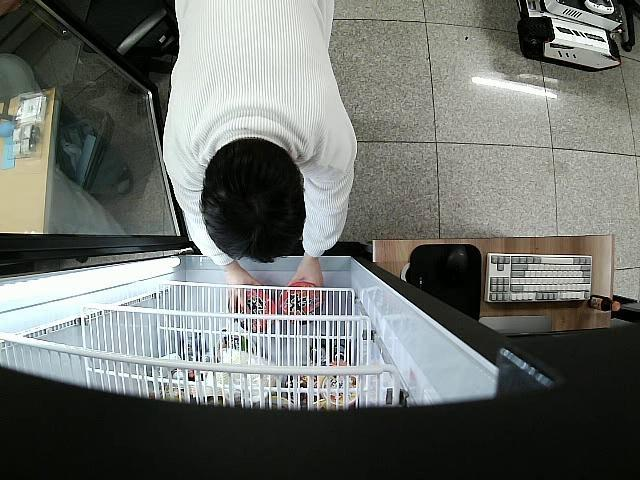01_ShinRamen_L: (230, 289, 274, 332), (280, 282, 322, 326)
